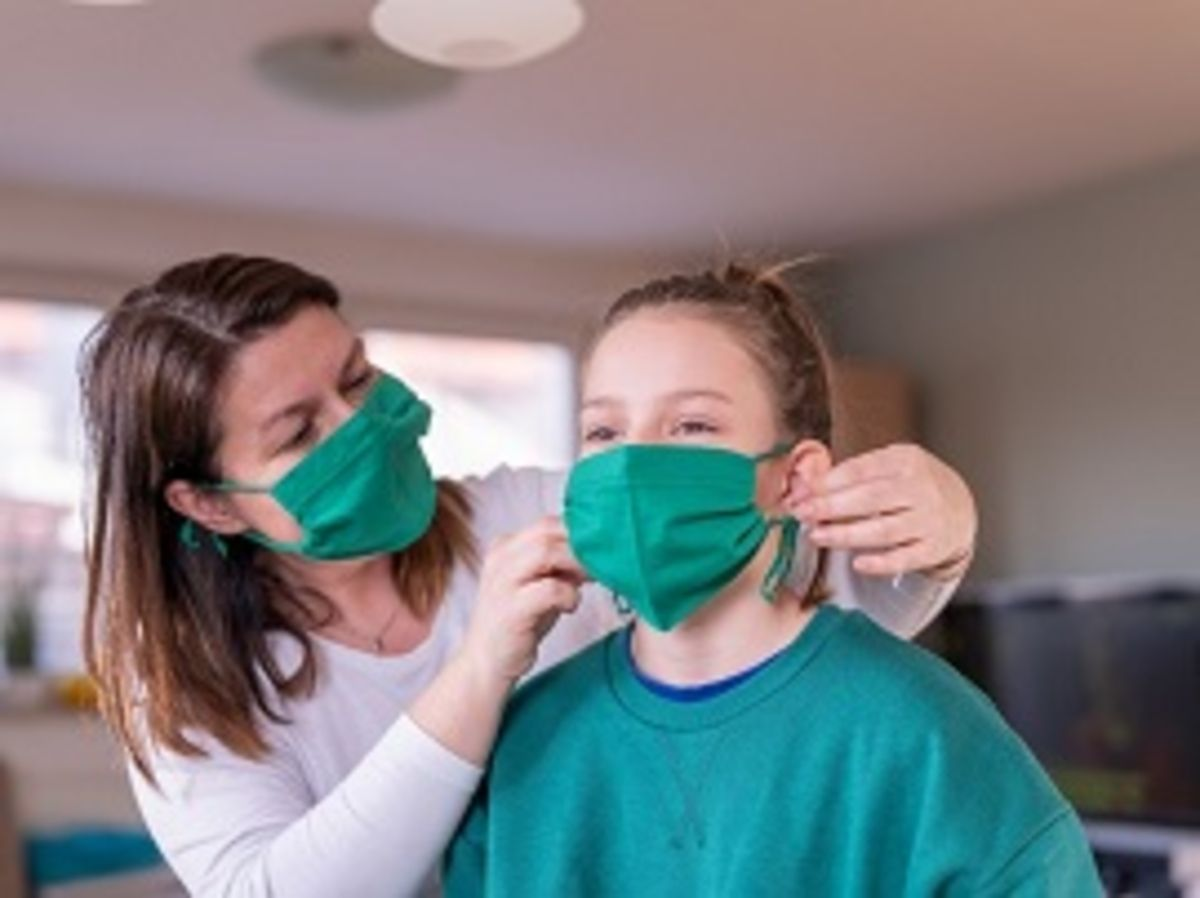with_mask: (559, 338, 858, 628), (214, 309, 448, 563)
